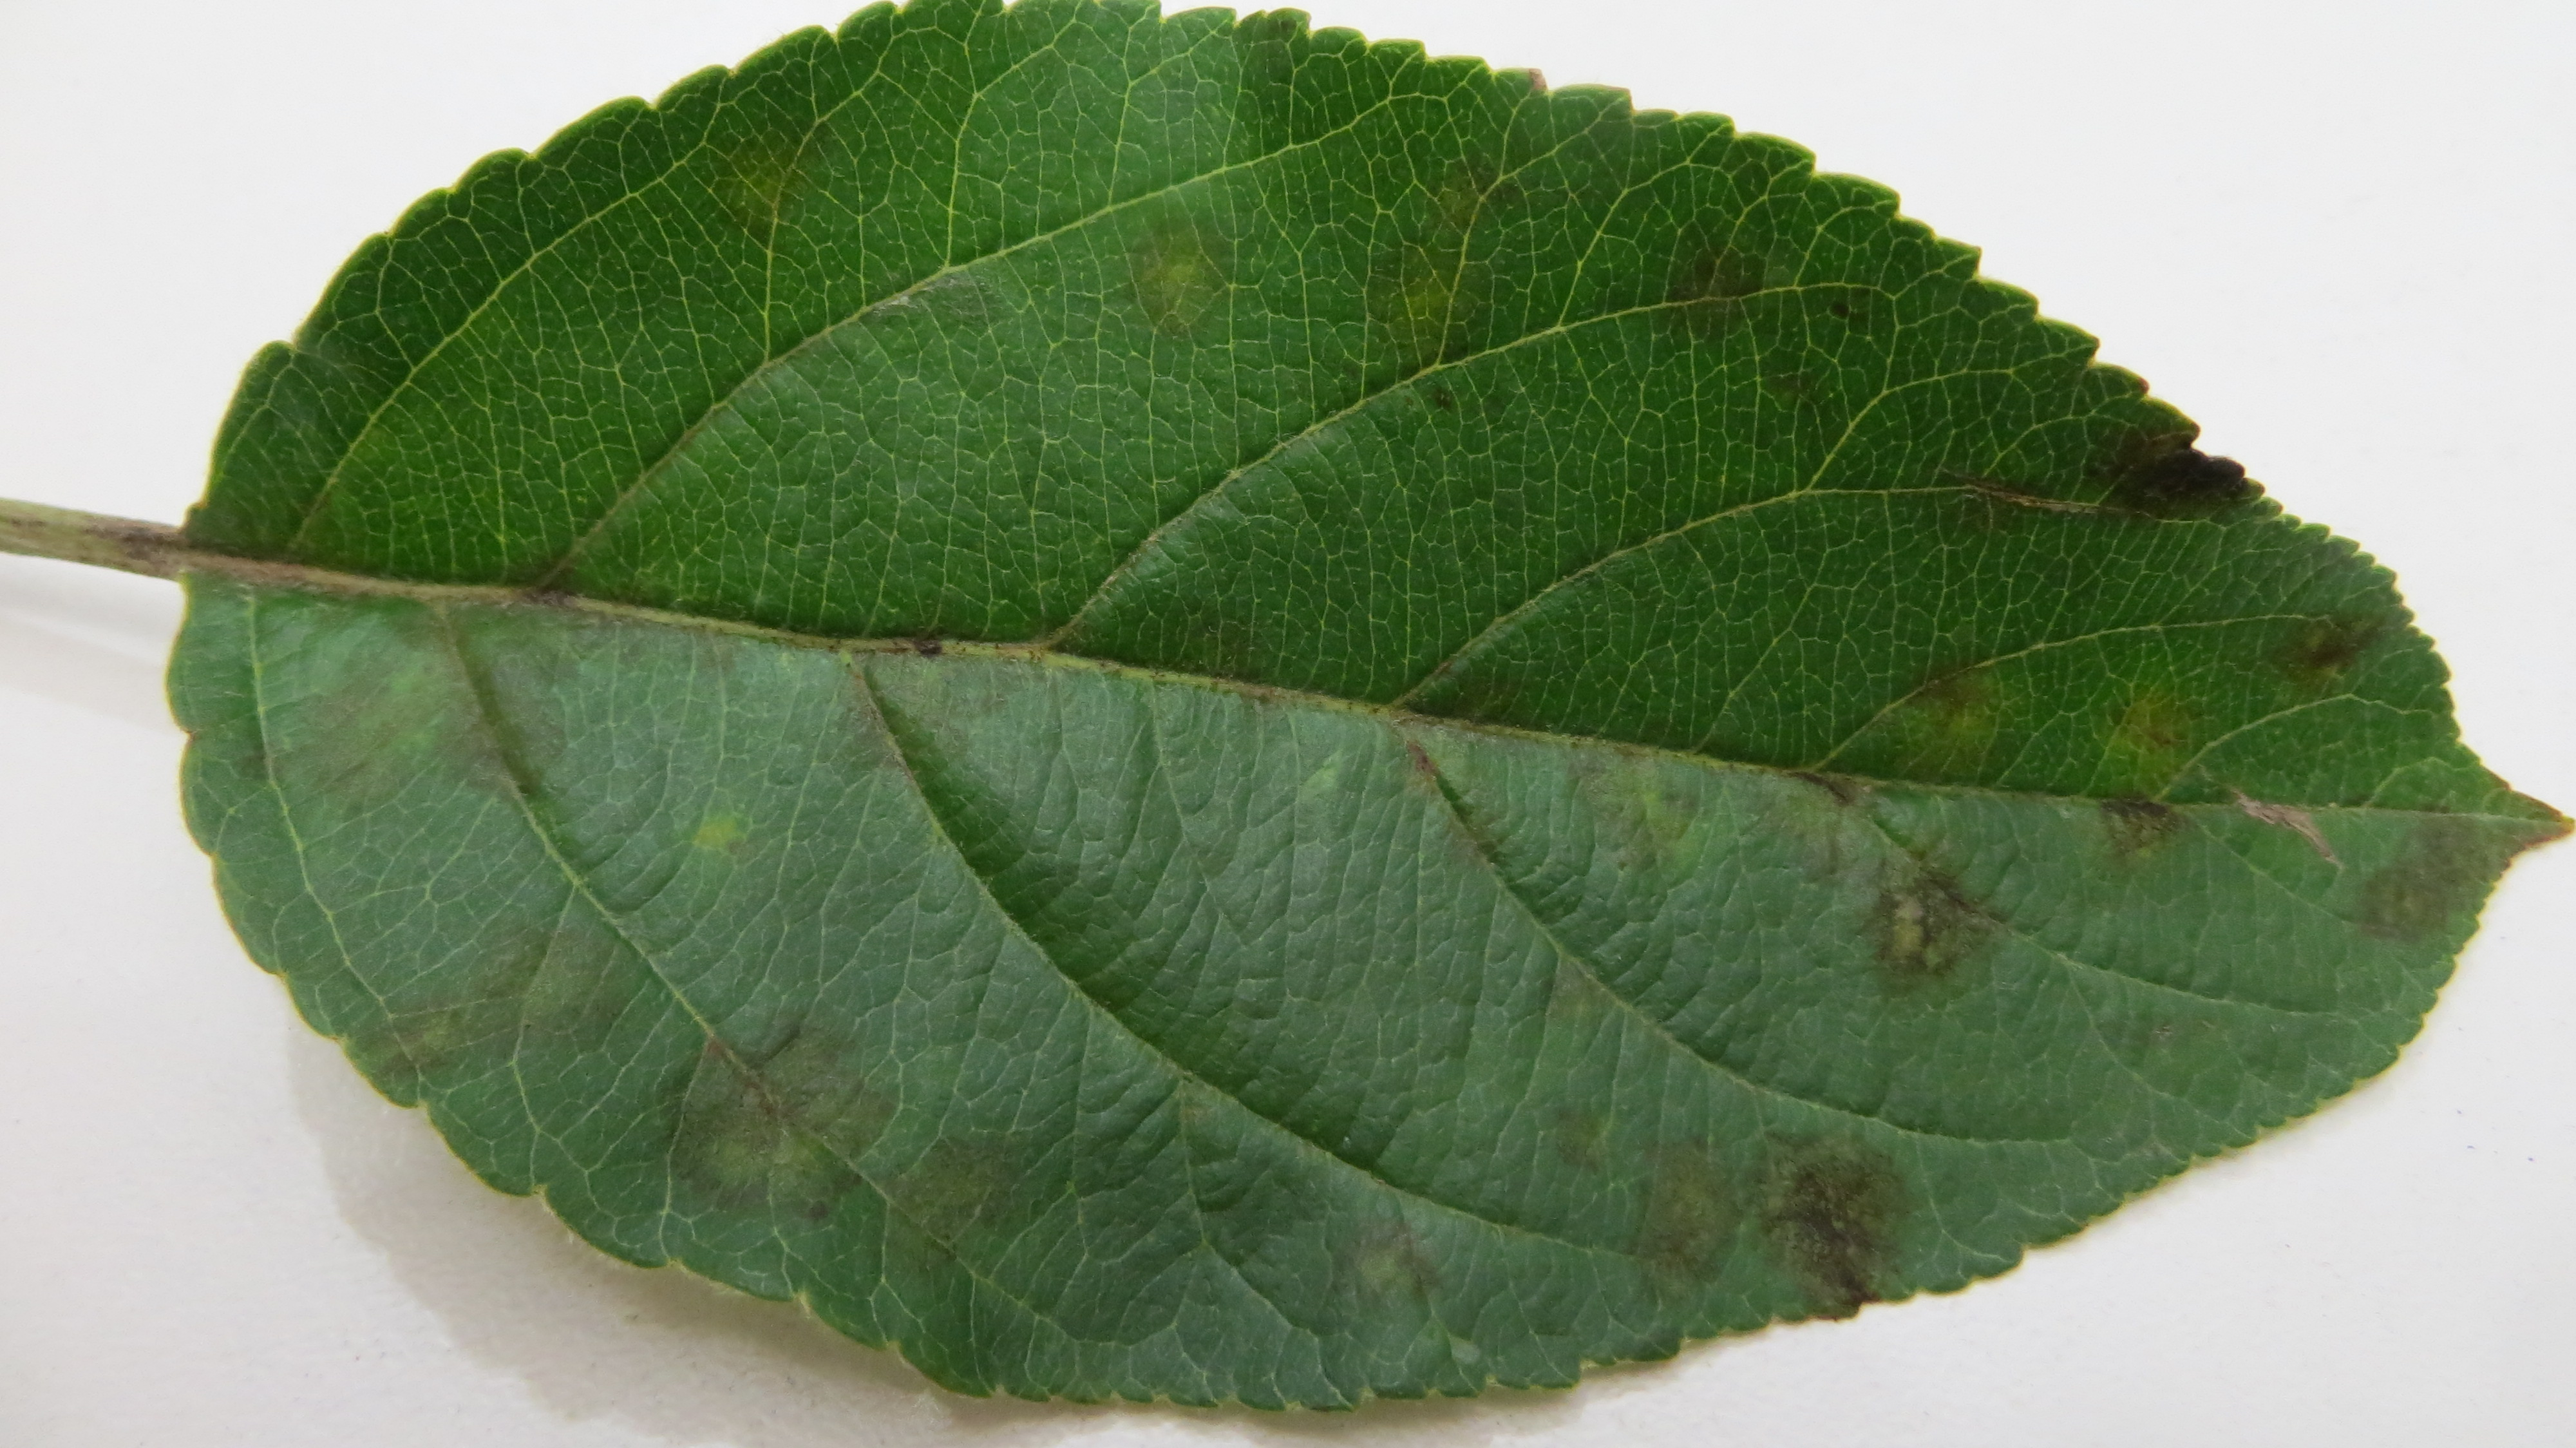sarna: (663, 997, 888, 1243), (1364, 143, 1523, 398), (1741, 1103, 1904, 1317), (412, 614, 575, 814), (876, 1117, 1024, 1308), (278, 620, 407, 828), (1849, 848, 2015, 1005), (2098, 382, 2261, 542), (1615, 1119, 1743, 1313), (476, 903, 616, 1057), (697, 108, 835, 262), (1576, 736, 1720, 880), (1649, 204, 1780, 349), (1120, 202, 1231, 359), (842, 667, 987, 786), (170, 499, 326, 609), (1329, 1200, 1463, 1324), (1376, 655, 1488, 795), (2066, 669, 2212, 775), (349, 981, 501, 1080), (1909, 644, 2012, 766), (2330, 855, 2447, 956), (2266, 604, 2380, 703), (1192, 614, 1283, 722), (2404, 777, 2503, 871), (2093, 777, 2183, 871), (1539, 1087, 1615, 1182), (1428, 789, 1500, 885), (674, 788, 754, 871), (510, 543, 589, 627)
